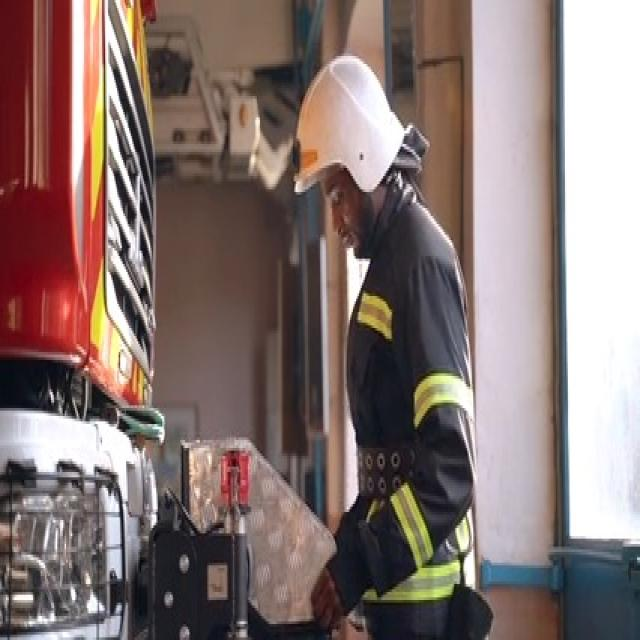Helmet_Wearer: (286, 55, 418, 242)
Jacket_Wearer: (321, 206, 480, 622)
Person: (280, 48, 478, 640)
